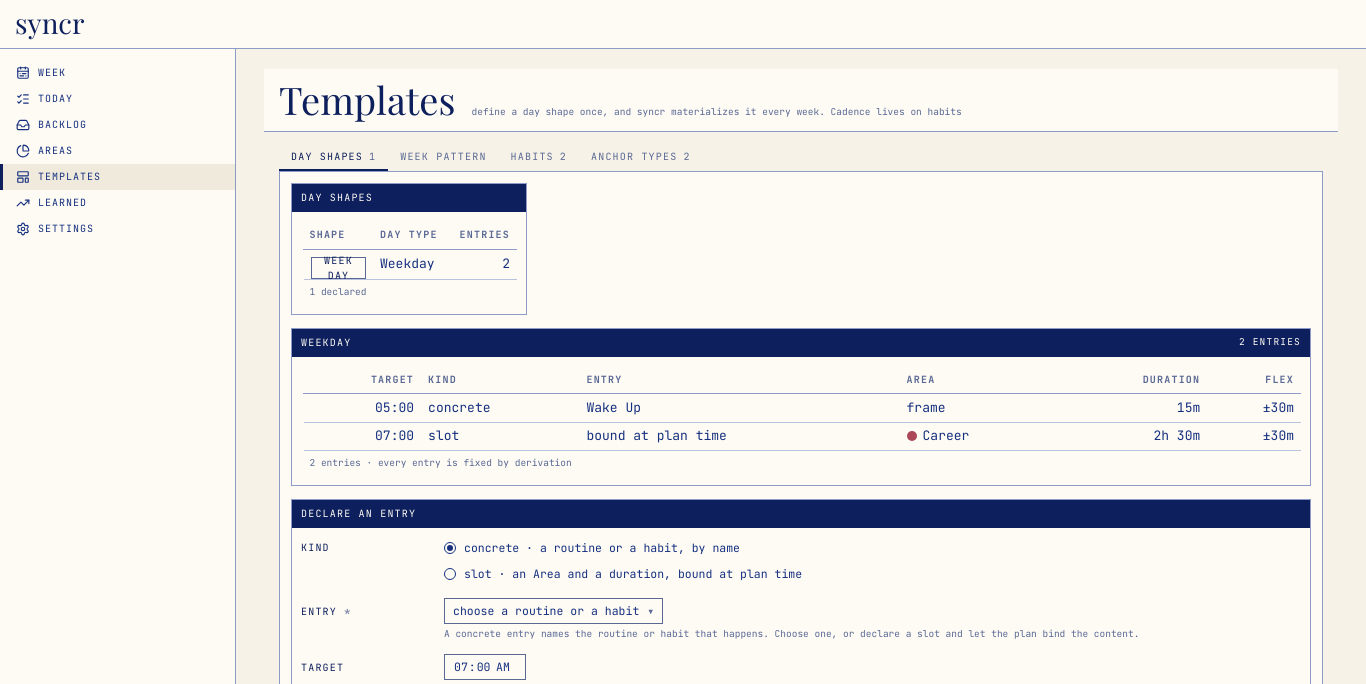
Test case: the templates route › draws the week pattern tab when the api answers 404 for the pattern
The width and height of the screenshot is (1366, 684).
Click the tab "Week pattern" at point(443, 158), box top-left (388, 145), bottom-right (499, 171)
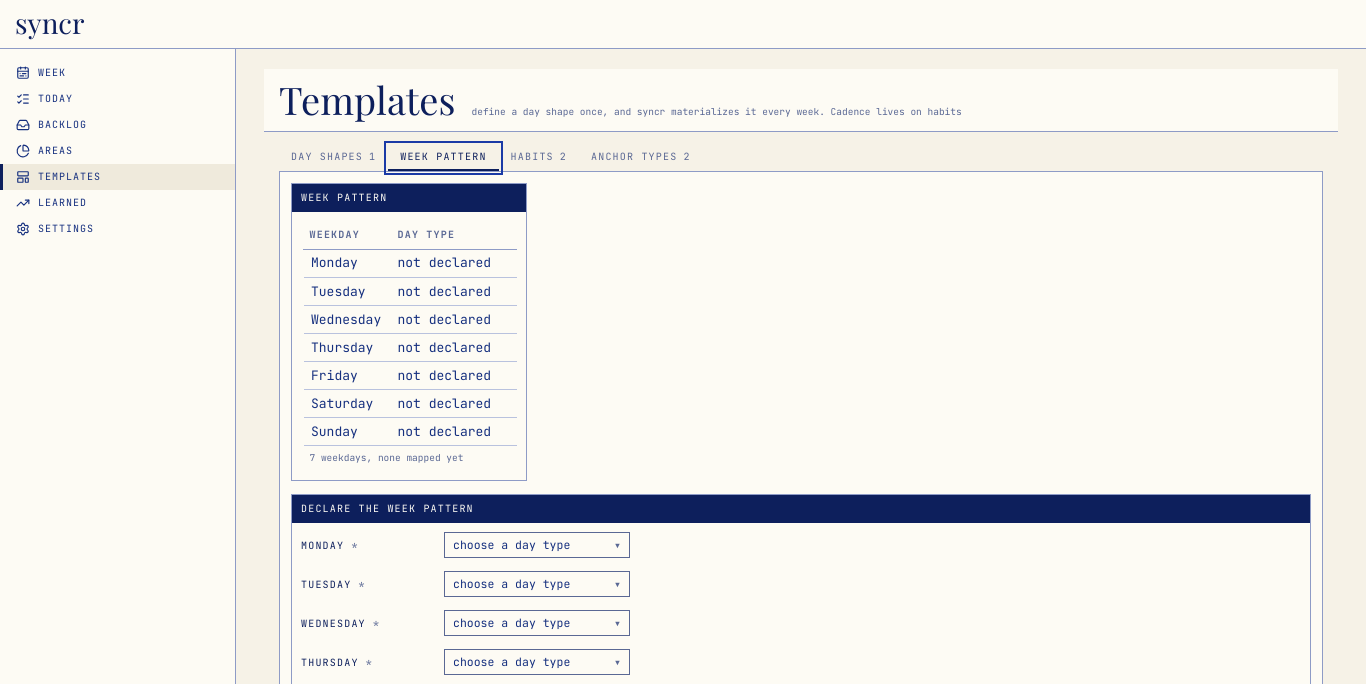
Check: the table named "The declared week pattern" shows "none mapped yet", box top-left (310, 451), bottom-right (463, 464)
